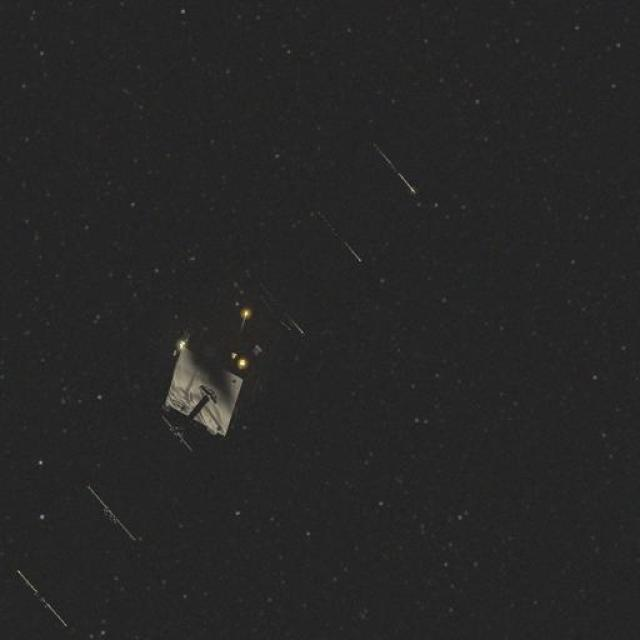smart_1: (60, 257, 350, 566)
